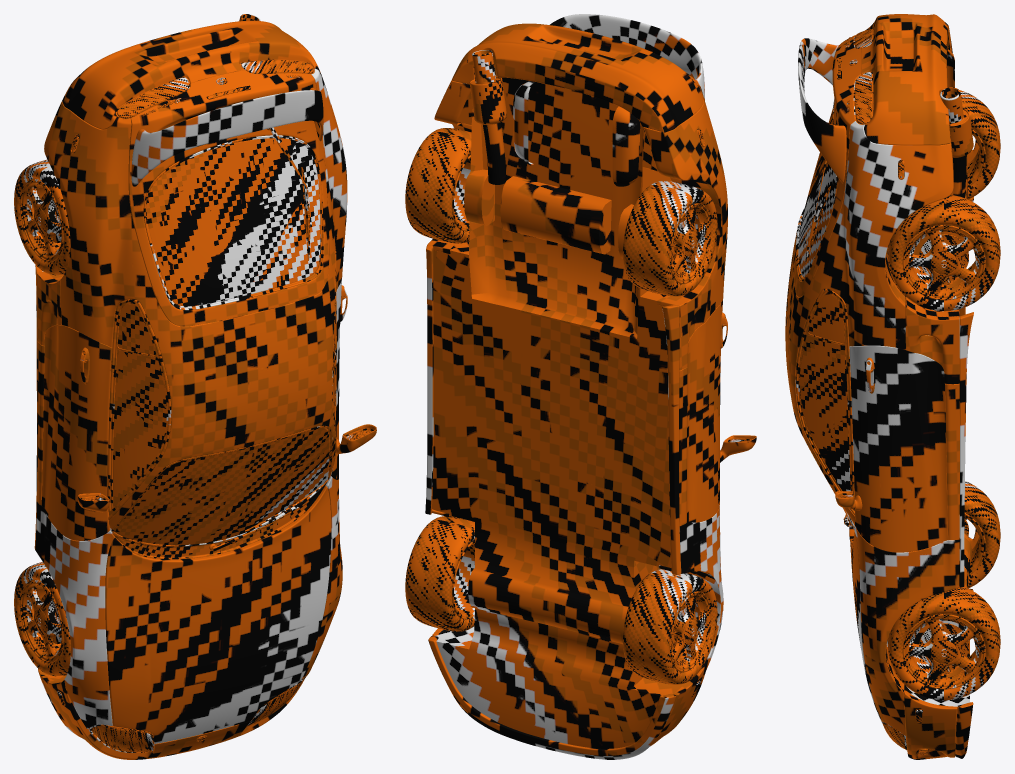
File: toyota-supra-mk4.glb
3 renders of one model, left to right at view 1: azimuth 30°, elevation 25°; view 2: azimuth 150°, elevation 25°; view 3: azimuth 270°, elevation 25°, orthographic. The views are drawn at different scales.
Visible parts, largest first — view 1: mesh_0, mesh_7, mesh_12, mesh_15, mesh_11, mesh_19, mesh_18; view 2: mesh_13, mesh_0, mesh_15, mesh_12, mesh_19, mesh_18, mesh_17, mesh_16; view 3: mesh_0, mesh_15, mesh_7, mesh_12, mesh_17, mesh_16, mesh_11, mesh_13, mesh_14, mesh_18, mesh_19.
Part boxes in pixels (x1,y1,x2,y2): mesh_0: (34, 20, 376, 759); mesh_7: (113, 138, 335, 545); mesh_12: (58, 14, 373, 706); mesh_15: (14, 159, 70, 676); mesh_11: (57, 60, 313, 752); mesh_19: (20, 579, 63, 663); mesh_18: (20, 179, 63, 262); mesh_13: (432, 76, 693, 748); mesh_0: (425, 14, 756, 759); mesh_15: (405, 128, 717, 684); mesh_12: (469, 50, 751, 695); mesh_19: (670, 591, 711, 672); mesh_18: (670, 203, 711, 283); mesh_17: (452, 540, 474, 619); mesh_16: (452, 154, 470, 231); mesh_0: (785, 14, 973, 759); mesh_15: (887, 90, 1000, 700); mesh_7: (798, 107, 854, 528); mesh_12: (795, 29, 973, 751); mesh_17: (902, 614, 985, 689); mesh_16: (902, 225, 985, 300); mesh_11: (838, 29, 928, 754); mesh_13: (810, 155, 971, 706); mesh_14: (919, 234, 968, 673); mesh_18: (967, 128, 985, 187); mesh_19: (964, 512, 985, 575).
Bounding box in the file's own units: 1.96 × 4.52 × 1.27.
1 material, 1 textured.
